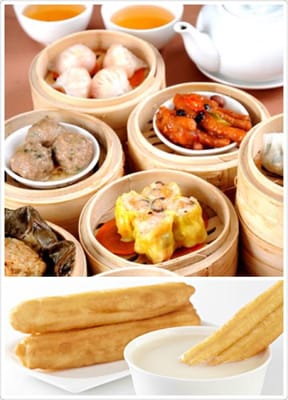pizza: (234, 112, 285, 275), (195, 1, 286, 85)
soup: (9, 278, 203, 371)
sushi: (79, 169, 238, 279), (127, 82, 268, 186), (2, 108, 125, 225), (29, 29, 165, 127), (123, 325, 276, 396), (107, 2, 195, 49), (13, 3, 92, 47)
